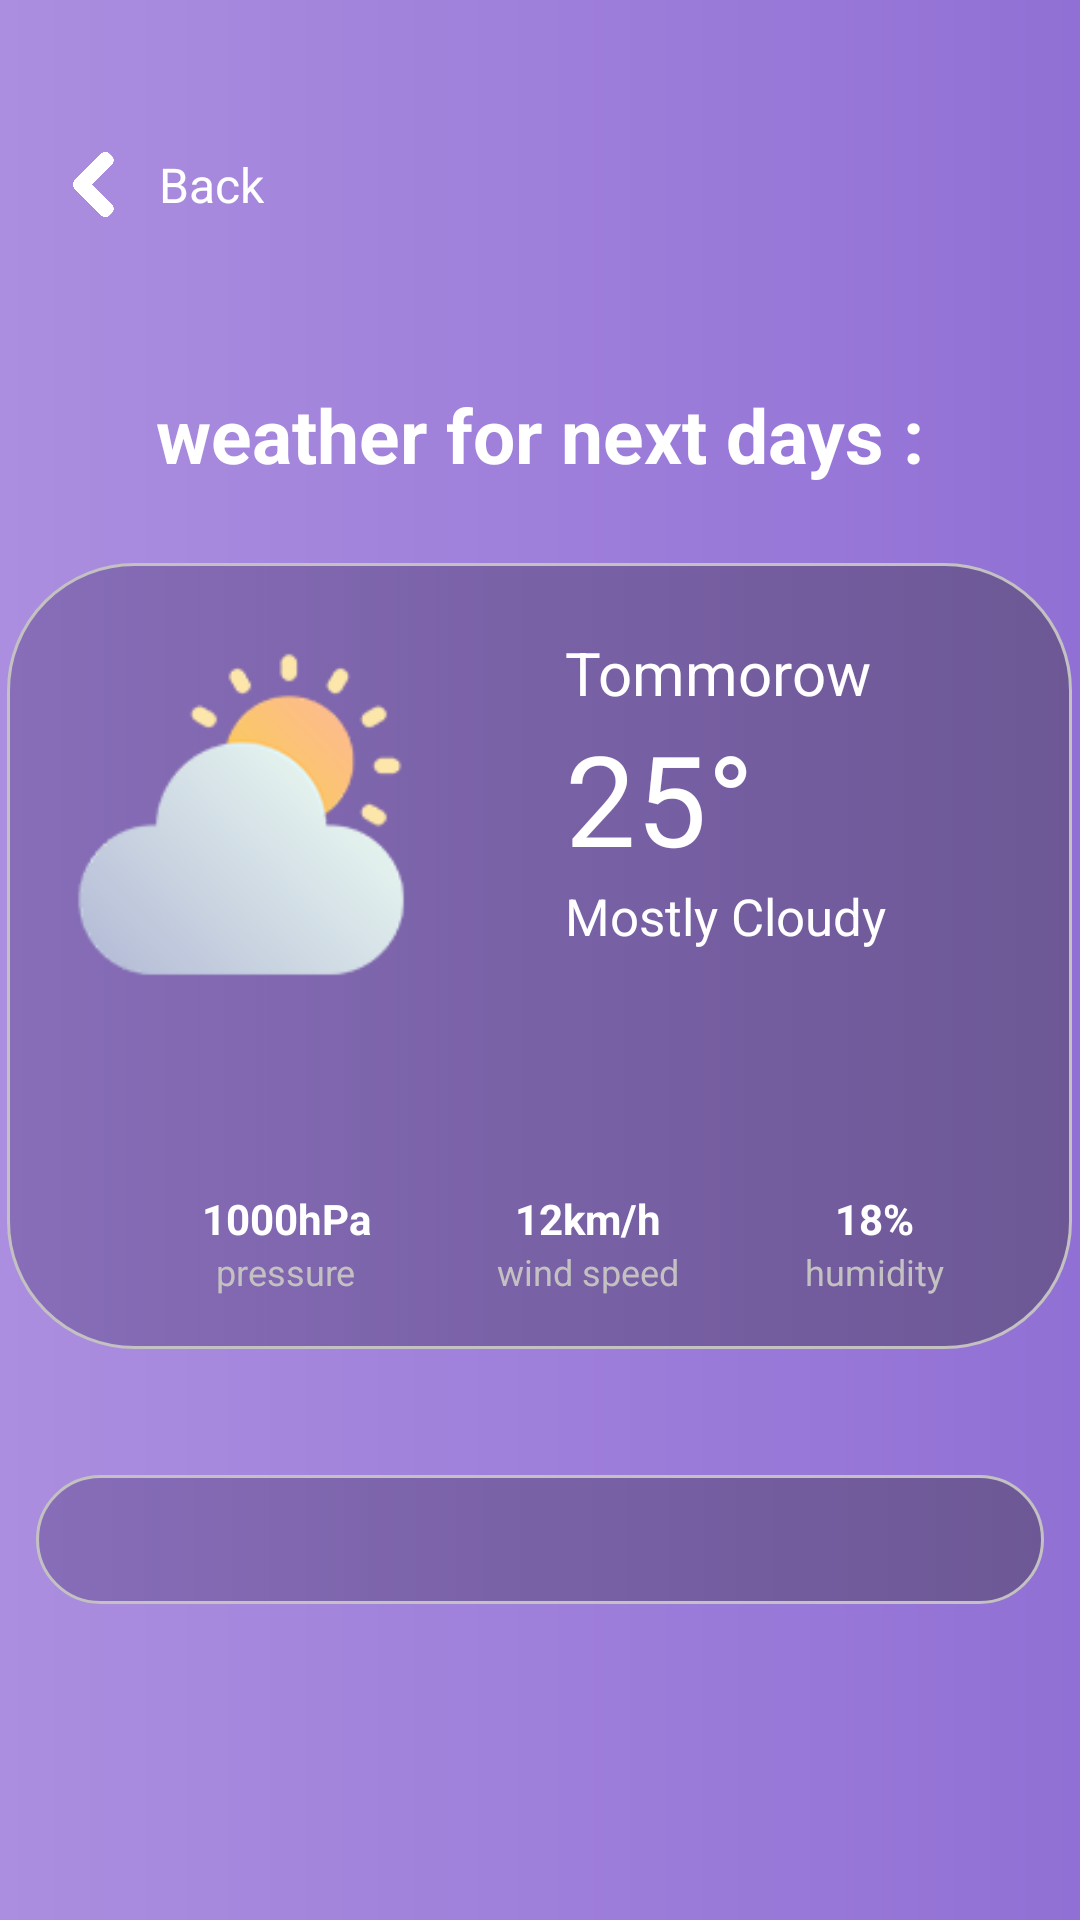

Where to tap for icons on this 1080×1920 app screen, as point (x, y):
cloudy sunny: point (241, 814)
